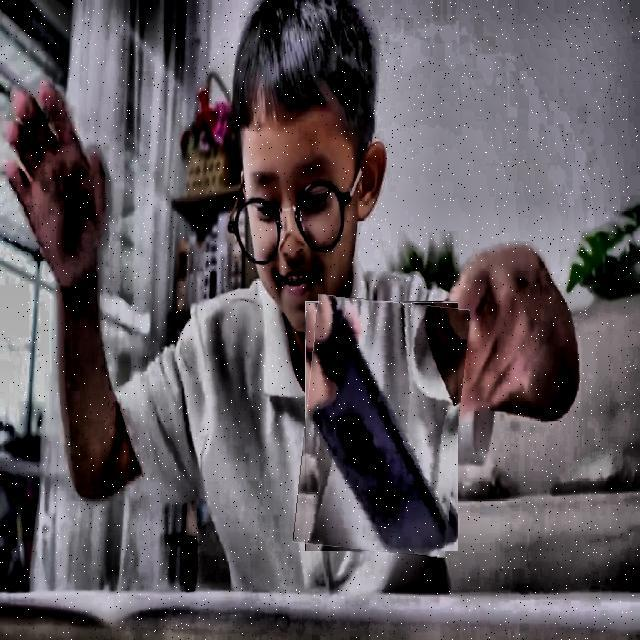Phone: (299, 298, 464, 555)
